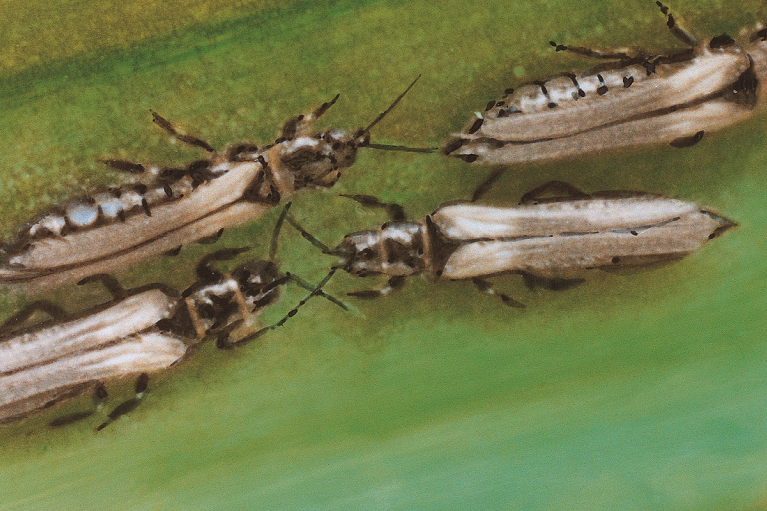Thrips: (307, 166, 723, 329), (12, 116, 354, 299), (1, 236, 292, 447), (432, 11, 767, 185)
